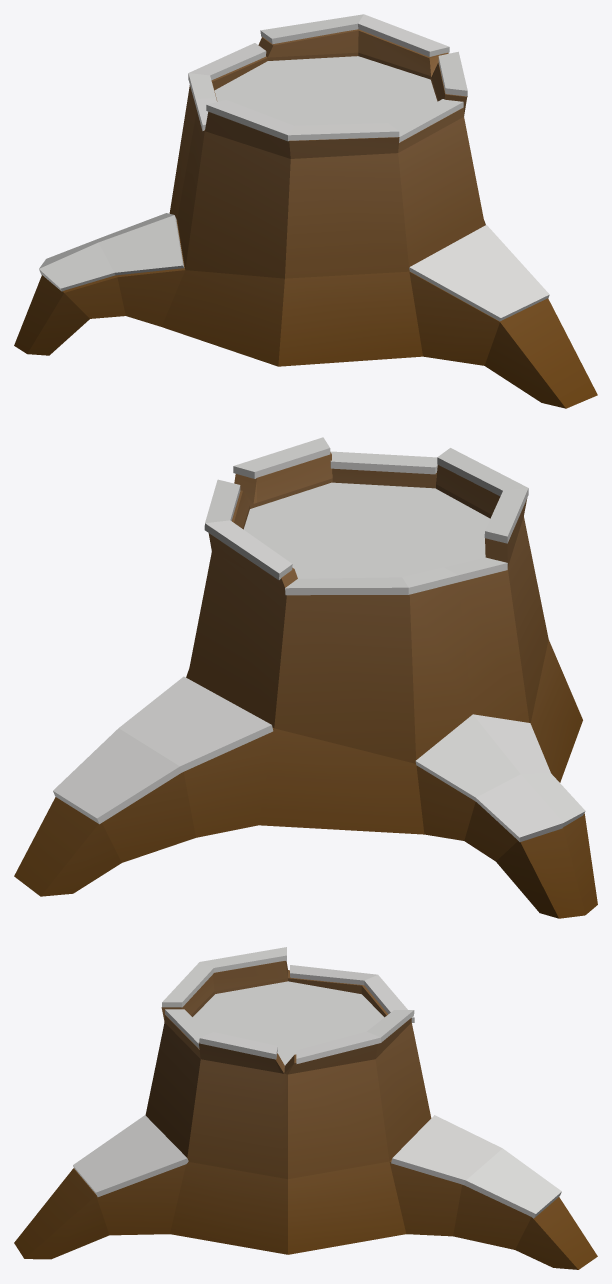
The model's file is Tree_trunk.fbx.
3 views of the same model, one above another, from view 1: azimuth 30°, elevation 25°; view 2: azimuth 150°, elevation 25°; view 3: azimuth 270°, elevation 25° (orthographic). The views are drawn at different scales.
Parts seen in each view (by area): view 1: Tree_stump; view 2: Tree_stump; view 3: Tree_stump.
Part boxes in pixels (x1,y1,x2,y2): Tree_stump: (14, 14, 597, 408); Tree_stump: (14, 437, 597, 918); Tree_stump: (14, 947, 597, 1269).
Bounding box in the file's own units: 70.83 × 41.52 × 98.16.
Materials: 2 (1 with a texture image).
